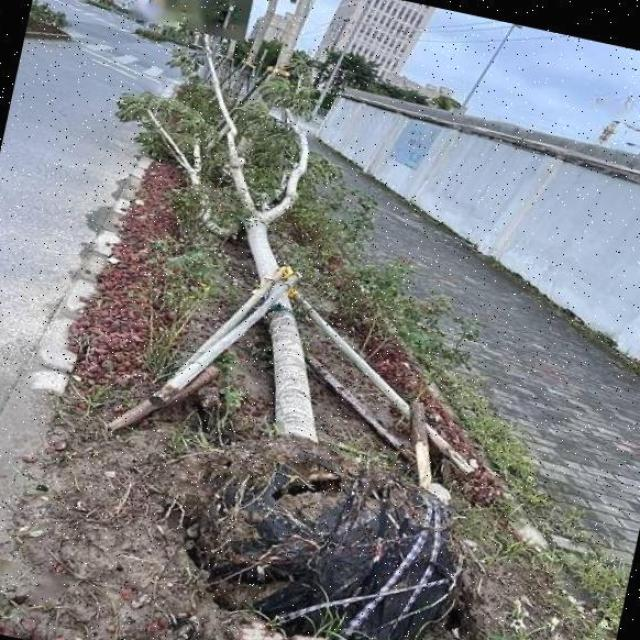fallen_object: (9, 22, 539, 640)
